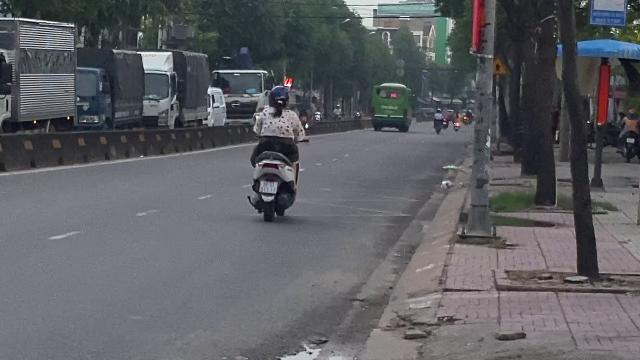helmet: (267, 84, 289, 108)
licenseplate: (259, 180, 277, 194)
motorcyclist: (245, 83, 305, 221)
